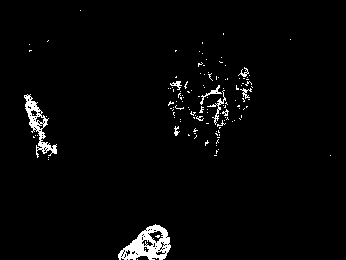person: (22, 94, 57, 158), (202, 84, 228, 157), (236, 67, 253, 120)
